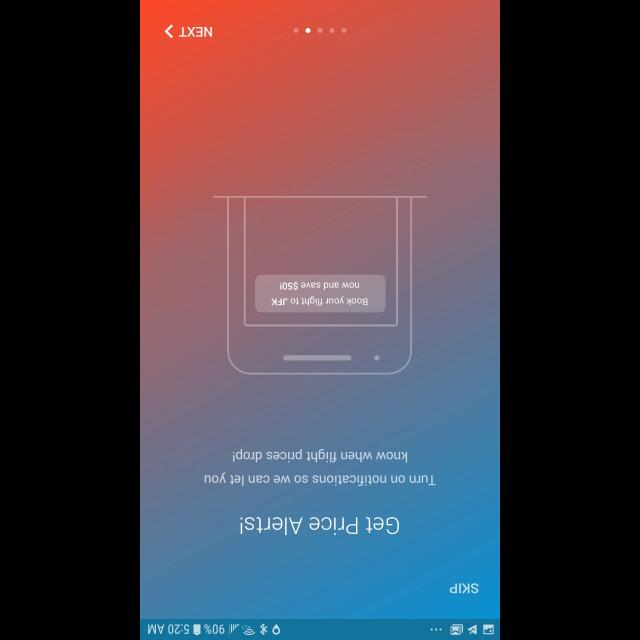icon: (164, 24, 173, 38)
image: (213, 196, 427, 374)
pageindicator: (293, 27, 347, 33)
text: (204, 448, 436, 486), (240, 516, 400, 536), (179, 27, 213, 38), (449, 582, 478, 594)
uppertaskbar: (140, 618, 500, 640)
